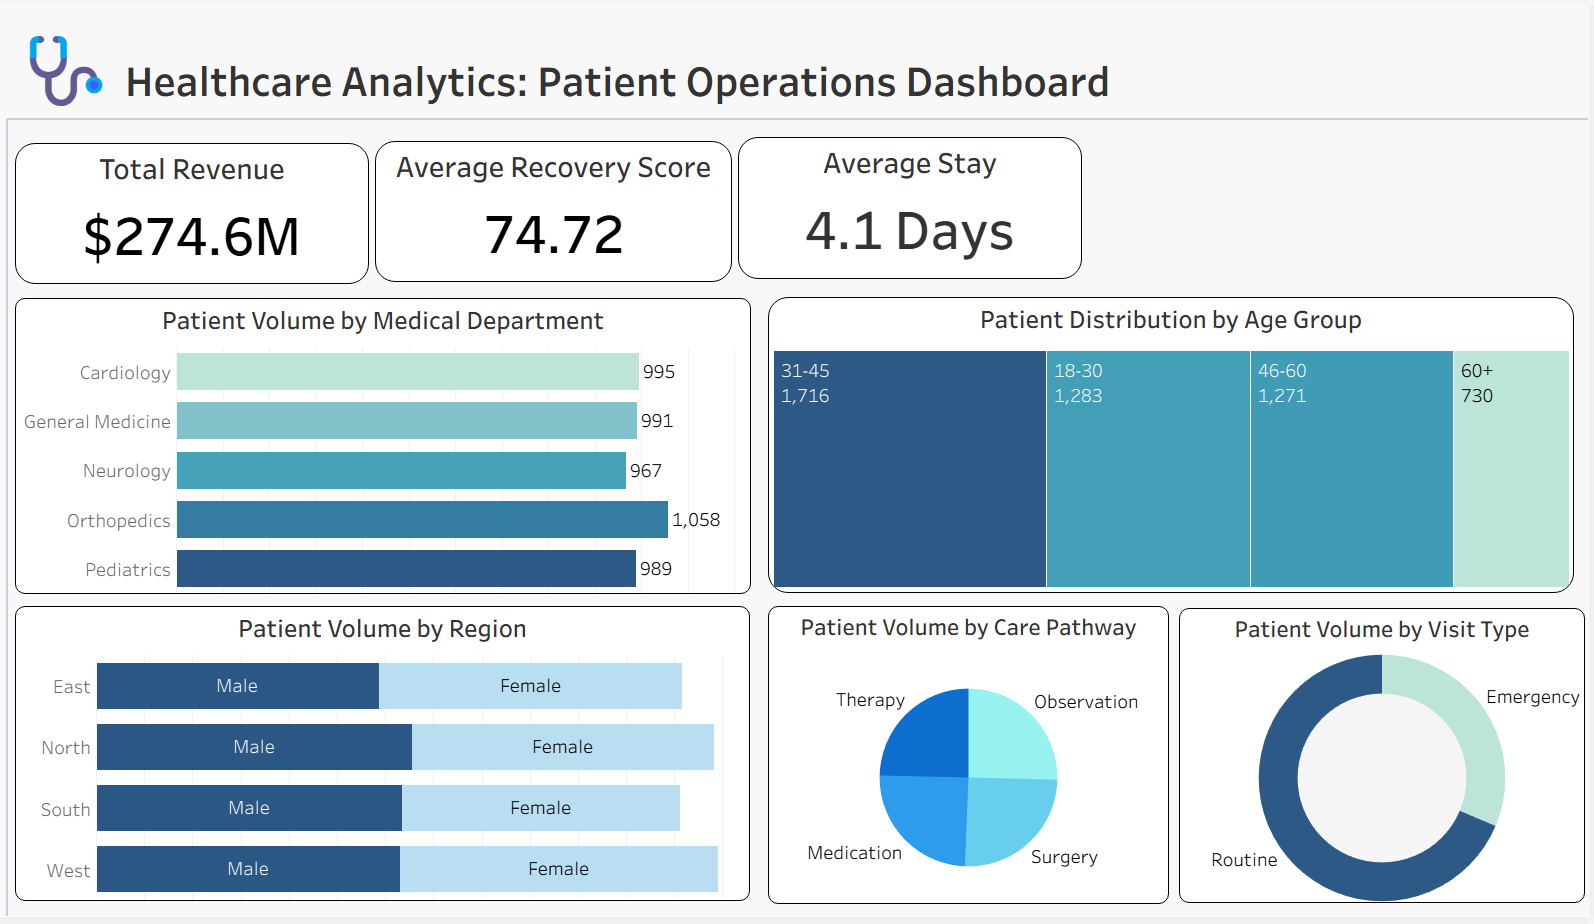

The dashboard page shown, as its layout file describes it:
{"tool":"tableau","page":{"name":"Dashboard 3","canvas":[1920,1080],"ordinal":0},"visuals":[{"type":"title","box":[8,8,1904,106]},{"type":"worksheet","title":"Average Stay","mark":"Automatic","box":[738,131,344,142]},{"type":"worksheet","title":"Average Recovery Score","mark":"Automatic","box":[375,135,357,141]},{"type":"worksheet","title":"Total Revenue","mark":"Automatic","box":[15,137,354,141]},{"type":"worksheet","title":"Sheet 3","mark":"Automatic","box":[768,291,806,296]},{"type":"worksheet","title":"Sheet 1","mark":"Automatic","rows":["department"],"cols":["patient_id"],"box":[15,292,736,296]},{"type":"worksheet","title":"Sheet 7","mark":"Automatic","rows":["region"],"cols":["patient_id"],"box":[15,600,735,295]},{"type":"worksheet","title":"Sheet 8","mark":"Pie","box":[768,600,401,298]},{"type":"worksheet","title":"Sheet 9","mark":"Pie","cols":["Calculation_0299909202599937","Calculation_0299909202698243"],"box":[1179,602,406,295]}]}

Visuals, with their boxes in screenshot pixels (x1, y1, x2, y2), scaled from the page's 1920x1080 canvas onto the 1594x924 screenshot:
title: [7,7,1587,98]
"Average Stay" worksheet: [613,112,898,234]
"Average Recovery Score" worksheet: [311,116,608,236]
"Total Revenue" worksheet: [12,117,306,238]
"Sheet 3" worksheet: [638,249,1307,502]
"Sheet 1" worksheet: [12,250,623,503]
"Sheet 7" worksheet: [12,513,623,766]
"Sheet 8" worksheet (Pie marks): [638,513,971,768]
"Sheet 9" worksheet (Pie marks): [979,515,1316,767]
